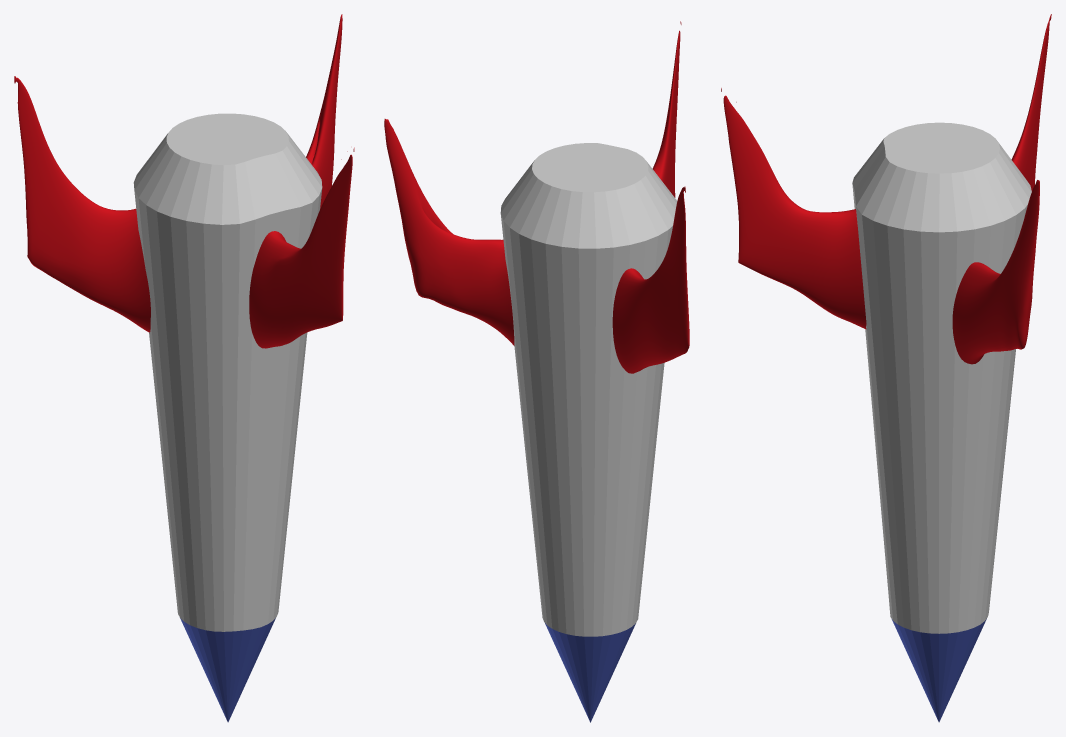
Rendered from rocket2.obj.
3 renders of one model, left to right at view 1: azimuth 30°, elevation 25°; view 2: azimuth 150°, elevation 25°; view 3: azimuth 270°, elevation 25°, orthographic. The views are drawn at different scales.
Visible parts, largest first — view 1: Cylinder, Retopo_Cylinder.001, Retopo_Cylinder.002, Cylinder.001; view 2: Cylinder, Retopo_Cylinder.002, Retopo_Cylinder.001, Cylinder.001; view 3: Cylinder, Retopo_Cylinder.002, Cylinder.001, Retopo_Cylinder.001.
Part boxes in pixels (x1,y1,x2,y2): Cylinder: [133, 113, 322, 631]; Retopo_Cylinder.001: [14, 76, 150, 332]; Retopo_Cylinder.002: [249, 14, 352, 348]; Cylinder.001: [180, 618, 275, 722]; Cylinder: [500, 143, 677, 636]; Retopo_Cylinder.002: [384, 30, 680, 345]; Retopo_Cylinder.001: [612, 186, 689, 373]; Cylinder.001: [545, 623, 635, 722]; Cylinder: [852, 122, 1031, 633]; Retopo_Cylinder.002: [723, 95, 1039, 364]; Cylinder.001: [891, 618, 986, 722]; Retopo_Cylinder.001: [1011, 14, 1051, 190].
Bounding box in the file's own units: 5.13 × 10.02 × 4.66.
